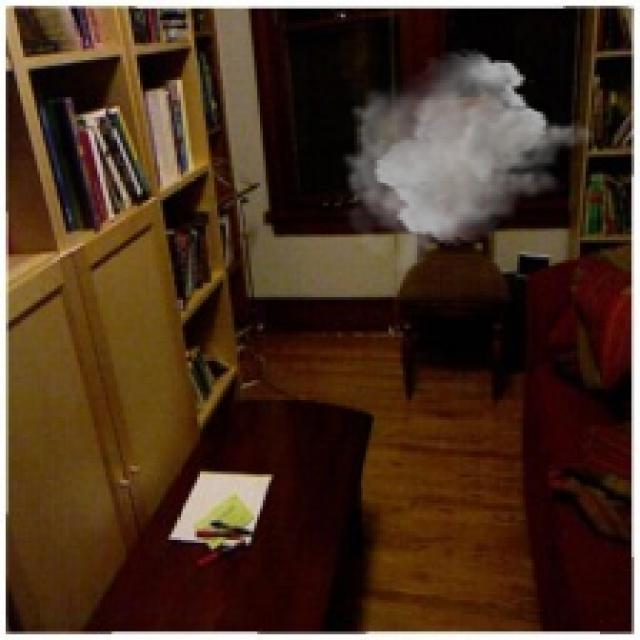Smoke: (340, 48, 597, 274)
